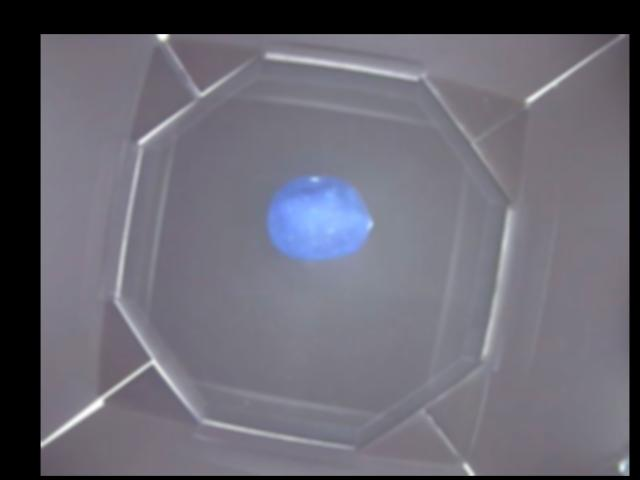Potato: (265, 174, 372, 258)
